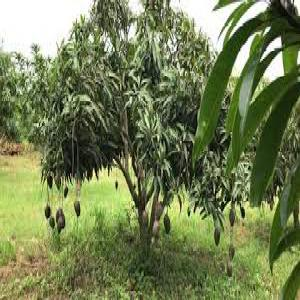Tree: (35, 2, 257, 278)
